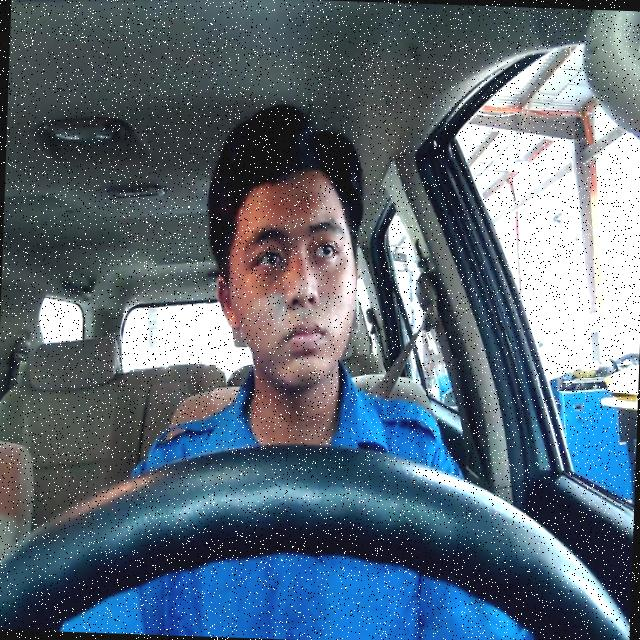focused: (211, 162, 364, 392)
